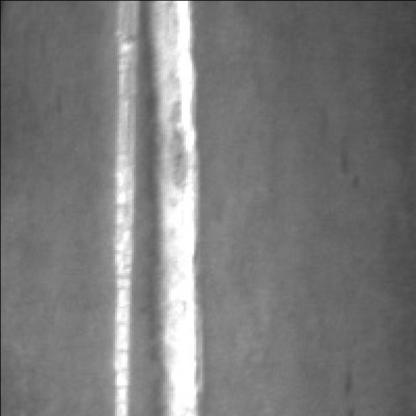inclusion: (332, 352, 355, 400)
scratches: (141, 0, 200, 412), (108, 0, 141, 414)
